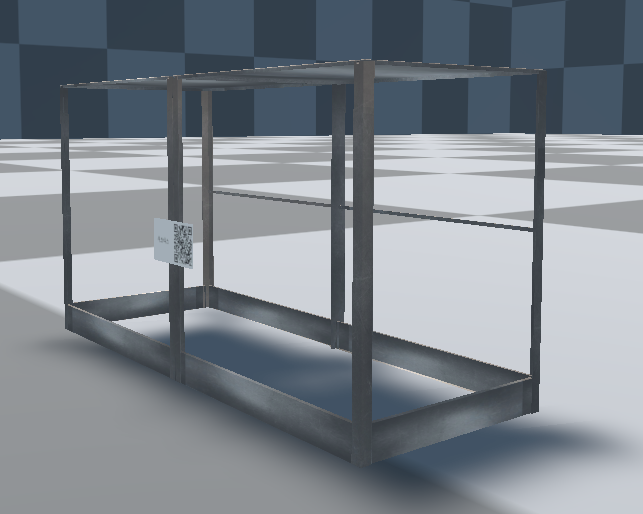Rack: (51, 55, 552, 473)
